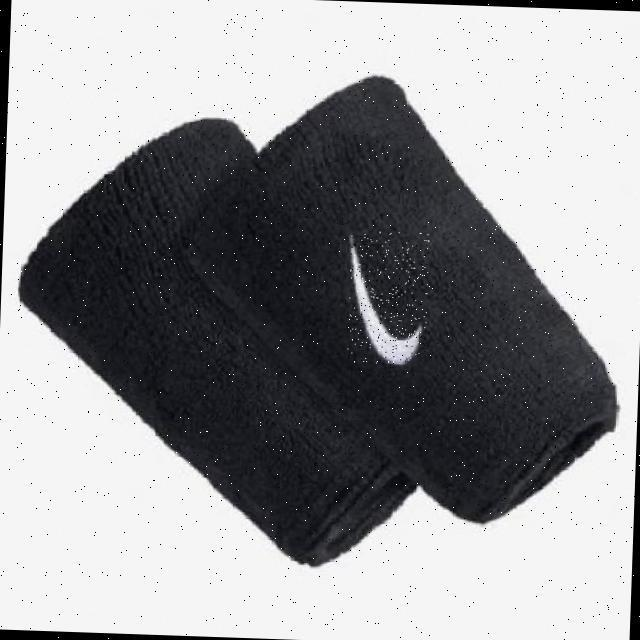Nike: (347, 230, 429, 366)
